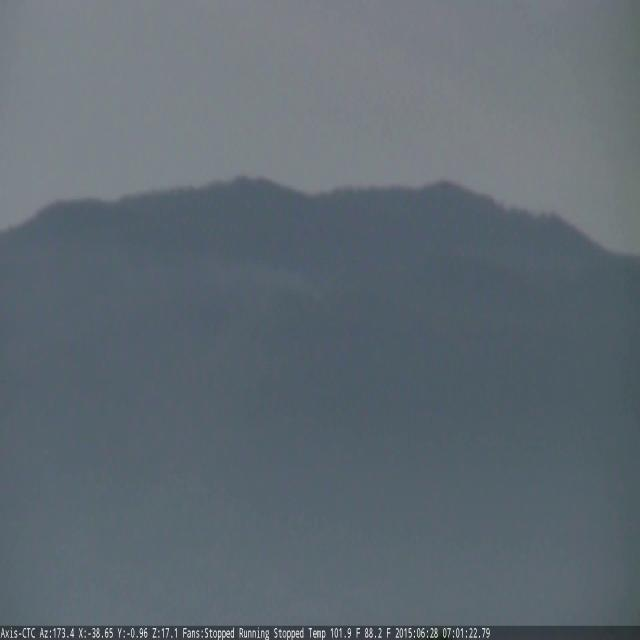smoke: (192, 250, 330, 308)
